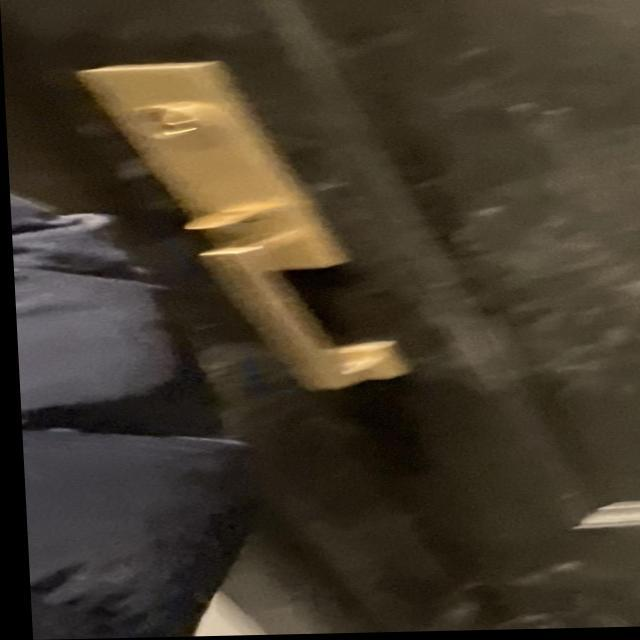door_handle: (182, 231, 409, 405)
